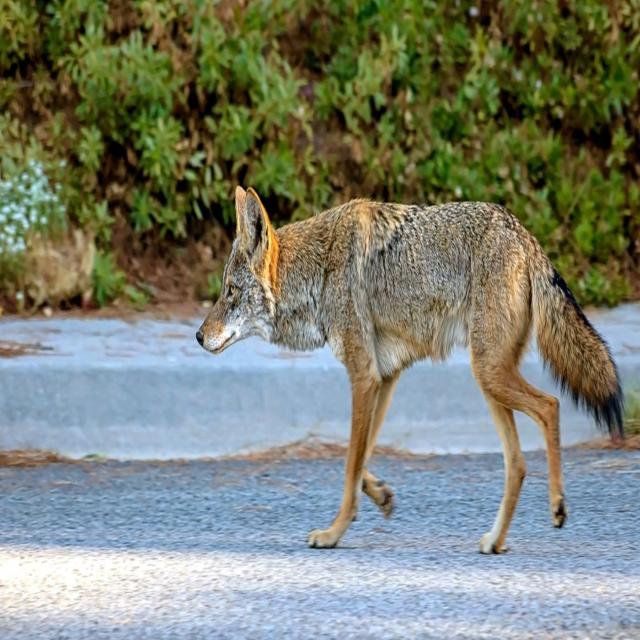Coyote: (195, 161, 630, 551)
